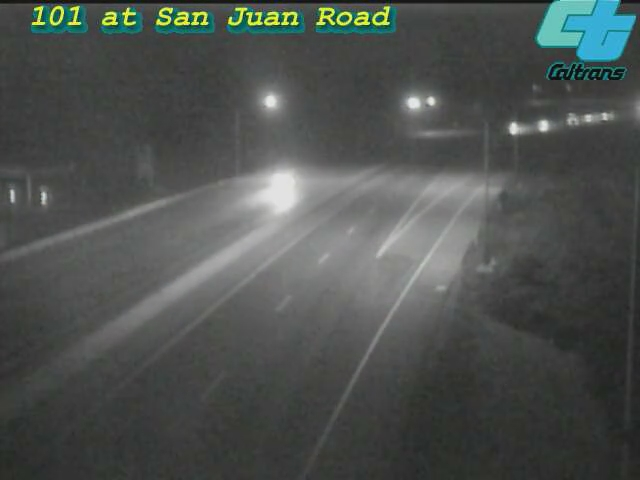vehicle: (241, 147, 321, 227), (581, 92, 631, 142), (565, 93, 615, 143), (548, 94, 598, 144), (522, 99, 572, 149), (490, 103, 540, 153)
